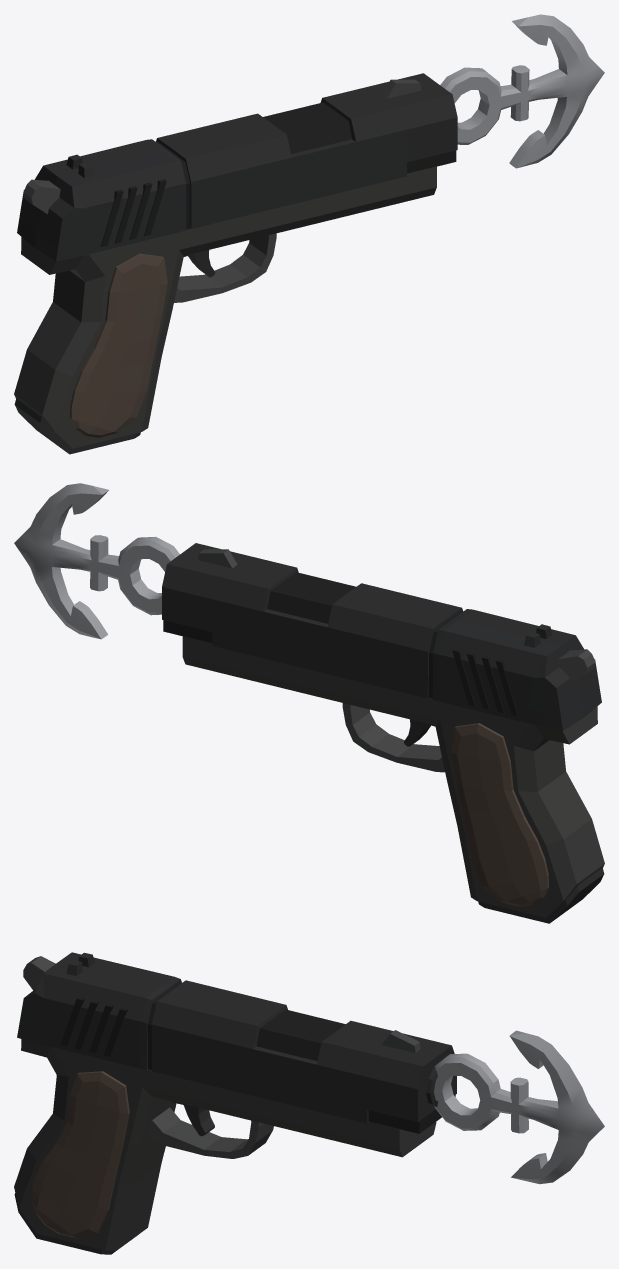
Rendered from grappin.glb.
The picture shows the model from 3 angles, top to bottom: view 1: azimuth 30°, elevation 25°; view 2: azimuth 150°, elevation 25°; view 3: azimuth 330°, elevation 25°; orthographic projection.
Visible parts, largest first — view 1: Pistol_1, Prop_Anchor; view 2: Pistol_1, Prop_Anchor; view 3: Pistol_1, Prop_Anchor.
Boxes of the visible parts, left/top/right/bottom form: Pistol_1: left=14, top=73, right=457, bottom=454; Prop_Anchor: left=440, top=14, right=604, bottom=168; Pistol_1: left=162, top=543, right=604, bottom=923; Prop_Anchor: left=14, top=483, right=179, bottom=639; Pistol_1: left=14, top=952, right=456, bottom=1254; Prop_Anchor: left=434, top=1030, right=604, bottom=1184.
Bounding box in the file's own units: 2.53 × 1.3 × 0.3232.
